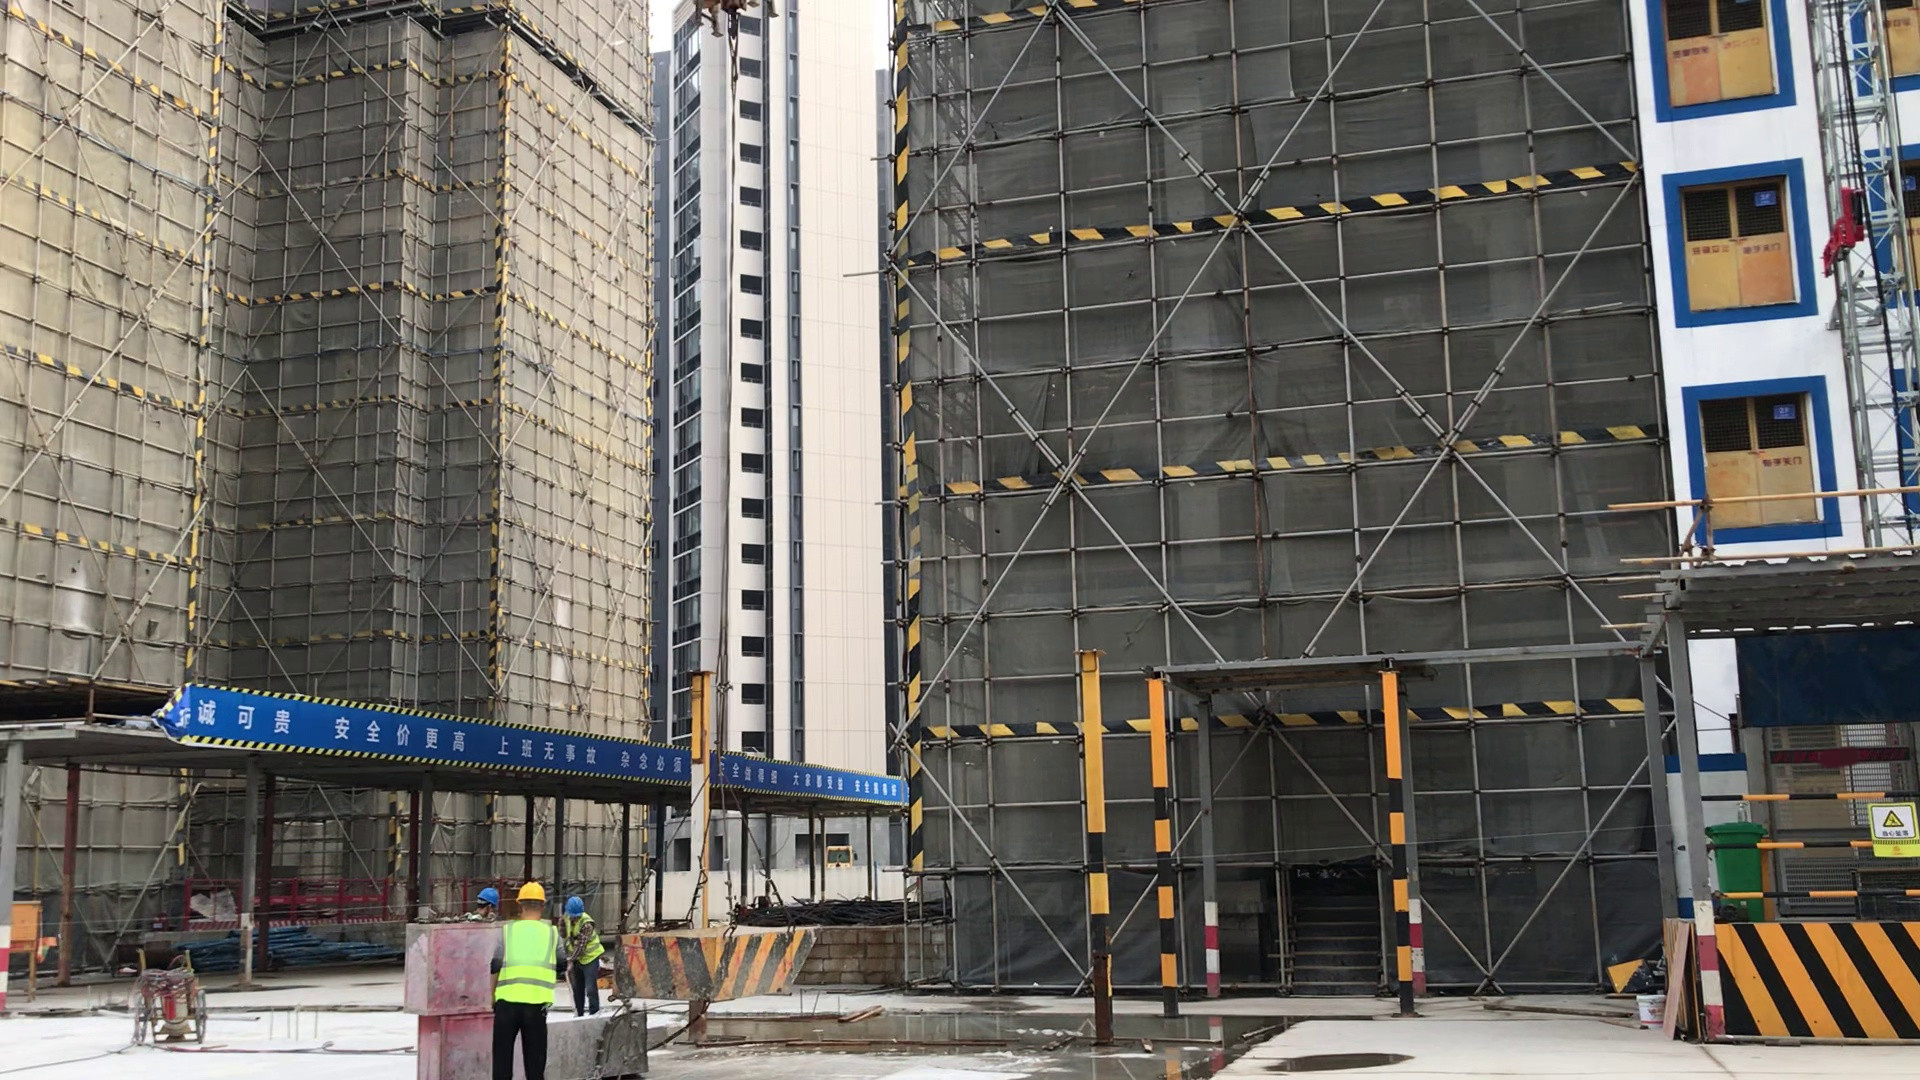fence: (185, 877, 463, 932)
handcart: (120, 943, 209, 1046)
helmet: (517, 880, 547, 903), (477, 886, 498, 907), (565, 897, 585, 917)
hopper: (612, 924, 820, 996), (555, 1003, 638, 1080)
person: (489, 881, 563, 1080), (560, 896, 606, 1014)
slogan: (179, 679, 904, 807)
vest: (494, 920, 557, 1006), (564, 914, 605, 966)
